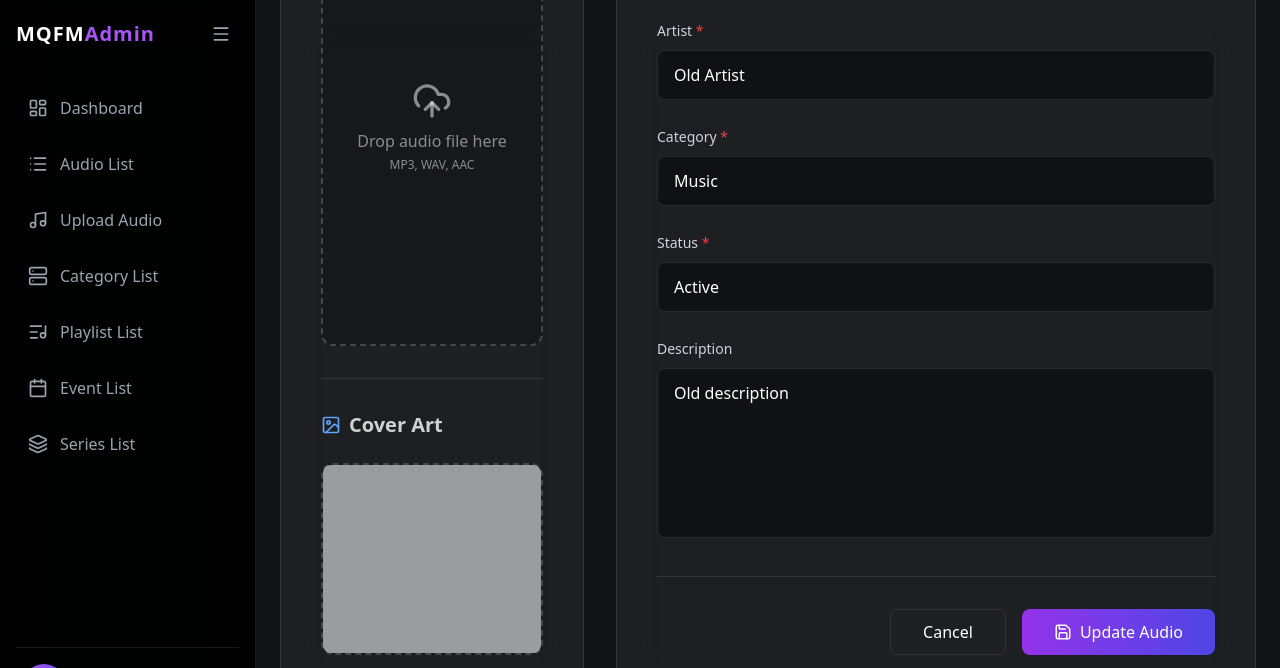
AudioEditPage Integration › should show error on failure
(page scrolled)
Click the button "Update Audio" at (1118, 632), box [1022,609,1215,655]
(page scrolled)
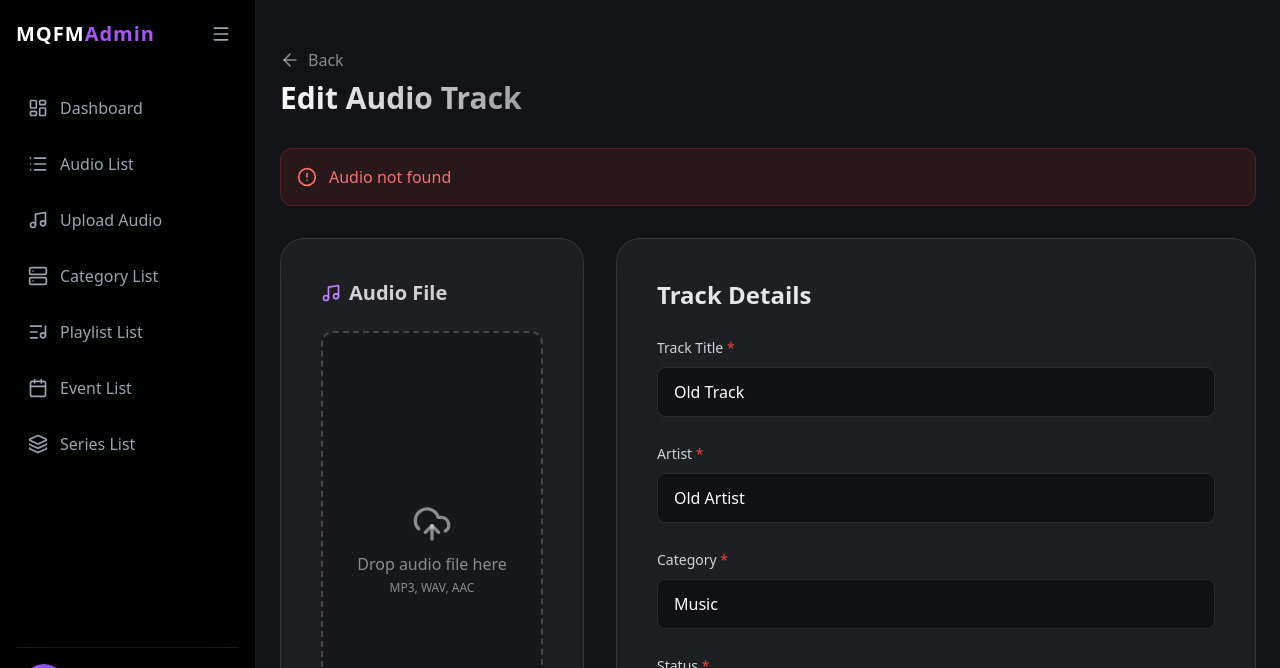
Expected: the text "Audio not found" is shown, [329,165,451,189]
